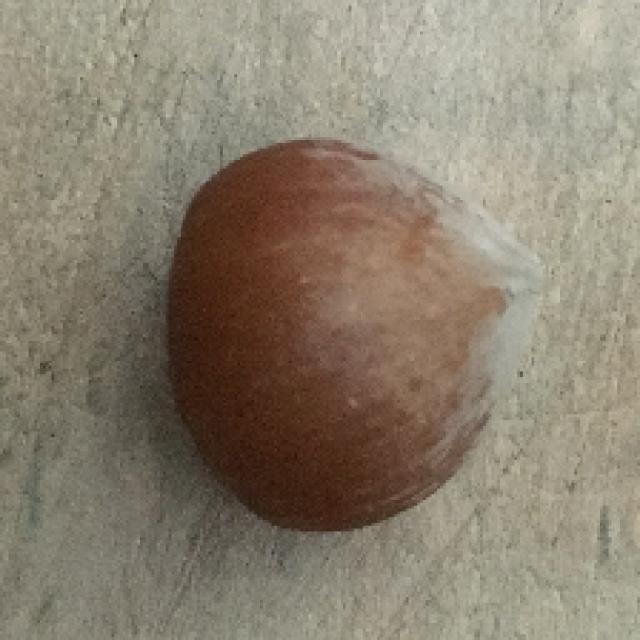qualityHazelnut: (155, 127, 551, 540)
